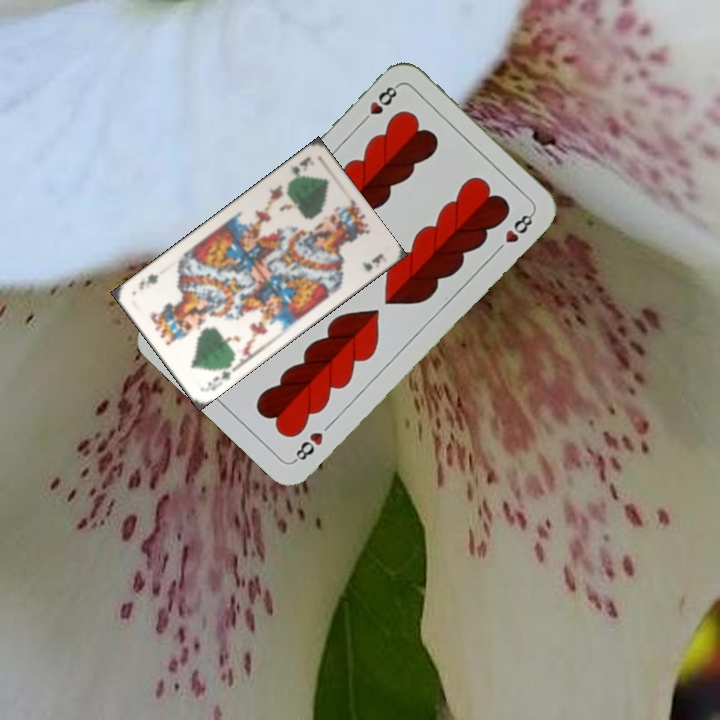GK: (201, 359, 233, 394), (286, 153, 314, 179)
H8: (356, 80, 402, 127), (289, 428, 326, 465)
